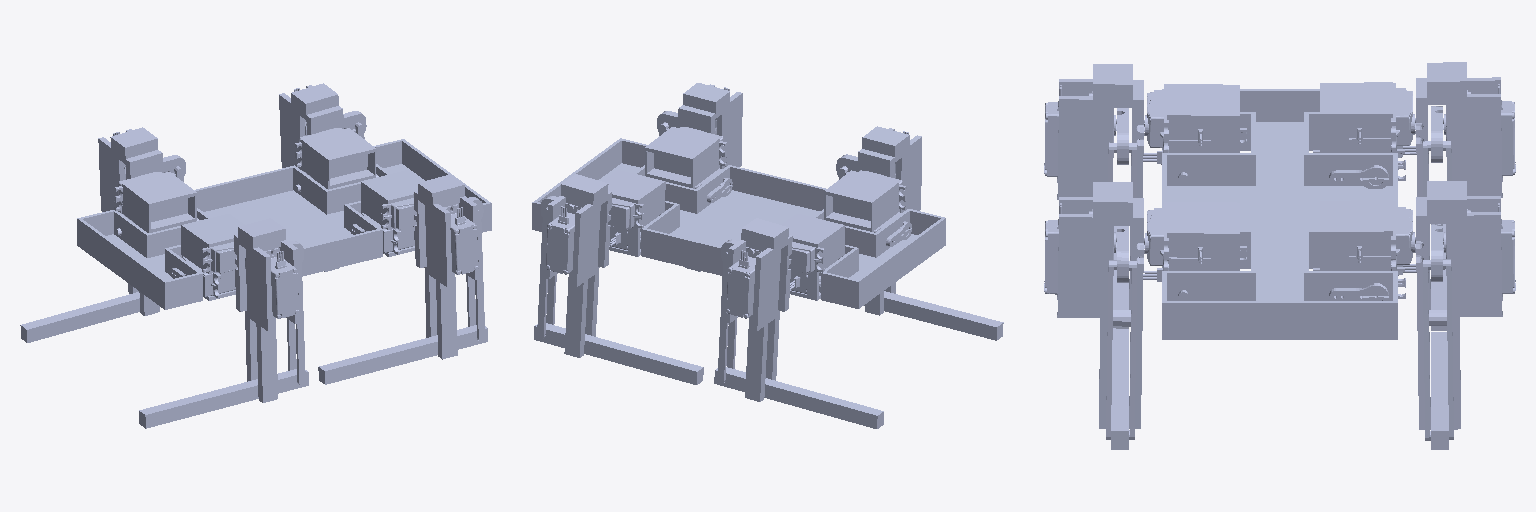
robot.urdf — qr_robot_description:
<?xml version="1.0" encoding="utf-8"?>
<!-- This URDF was automatically created by SolidWorks to URDF Exporter! Originally created by Stephen Brawner (brawner@gmail.com) 
     Commit Version: 1.6.0-4-g7f85cfe  Build Version: 1.6.7995.38578
     For more information, please see http://wiki.ros.org/sw_urdf_exporter -->
<robot
  name="qr_robot_description">
  <link
    name="base_link">
    <inertial>
      <origin
        xyz="0.15064253434013 0.0700000000000003 0.00666886897024865"
        rpy="0 0 0" />
      <mass
        value="0.198371061990118" />
      <inertia
        ixx="0.00036504091117598"
        ixy="5.19520227443928E-19"
        ixz="1.94981330804241E-06"
        iyy="0.00175563313208596"
        iyz="4.82096077171752E-21"
        izz="0.00210157240958524" />
    </inertial>
    <visual>
      <origin
        xyz="0 0 0"
        rpy="0 0 0" />
      <geometry>
        <mesh
          filename="package://qr_robot_description/meshes/base_link.STL" />
      </geometry>
      <material
        name="">
        <color
          rgba="0.792156862745098 0.819607843137255 0.933333333333333 1" />
      </material>
    </visual>
    <collision>
      <origin
        xyz="0 0 0"
        rpy="0 0 0" />
      <geometry>
        <mesh
          filename="package://qr_robot_description/meshes/base_link.STL" />
      </geometry>
    </collision>
  </link>
  <link
    name="FrontLeftLink1">
    <inertial>
      <origin
        xyz="0.0320386942573502 0.00671480018784498 0.0109429905159666"
        rpy="0 0 0" />
      <mass
        value="0.095813289188243" />
      <inertia
        ixx="2.42425602673094E-05"
        ixy="4.73666922265954E-07"
        ixz="9.00567316023783E-07"
        iyy="2.49753923477407E-05"
        iyz="5.54686215981736E-08"
        izz="2.86315080044085E-05" />
    </inertial>
    <visual>
      <origin
        xyz="0 0 0"
        rpy="0 0 0" />
      <geometry>
        <mesh
          filename="package://qr_robot_description/meshes/FrontLeftLink1.STL" />
      </geometry>
      <material
        name="">
        <color
          rgba="0.792156862745098 0.819607843137255 0.933333333333333 1" />
      </material>
    </visual>
    <collision>
      <origin
        xyz="0 0 0"
        rpy="0 0 0" />
      <geometry>
        <mesh
          filename="package://qr_robot_description/meshes/FrontLeftLink1.STL" />
      </geometry>
    </collision>
  </link>
  <joint
    name="FrontLeftJoint1"
    type="revolute">
    <origin
      xyz="0.0293 0.0131592409951216 0.0106456547118375"
      rpy="0 0 0" />
    <parent
      link="base_link" />
    <child
      link="FrontLeftLink1" />
    <axis
      xyz="-1 0 0" />
    <limit
      lower="-0.785"
      upper="0.785"
      effort="10"
      velocity="5" />
  </joint>
  <link
    name="FrontLeftLink2">
    <inertial>
      <origin
        xyz="0.00250391100516545 -0.0198206905886673 -0.0182298717509004"
        rpy="0 0 0" />
      <mass
        value="0.105670923588723" />
      <inertia
        ixx="0.000126642636731097"
        ixy="-1.24273055426145E-07"
        ixz="2.35620380502297E-06"
        iyy="0.00011886602057806"
        iyz="6.7582342278957E-06"
        izz="2.24264702225938E-05" />
    </inertial>
    <visual>
      <origin
        xyz="0 0 0"
        rpy="0 0 0" />
      <geometry>
        <mesh
          filename="package://qr_robot_description/meshes/FrontLeftLink2.STL" />
      </geometry>
      <material
        name="">
        <color
          rgba="0.792156862745098 0.819607843137255 0.933333333333333 1" />
      </material>
    </visual>
    <collision>
      <origin
        xyz="0 0 0"
        rpy="0 0 0" />
      <geometry>
        <mesh
          filename="package://qr_robot_description/meshes/FrontLeftLink2.STL" />
      </geometry>
    </collision>
  </link>
  <joint
    name="FrontLeftJoint2"
    type="revolute">
    <origin
      xyz="0.0436000007976901 -0.0287689722180402 0.0234127349505281"
      rpy="0 0 0" />
    <parent
      link="FrontLeftLink1" />
    <child
      link="FrontLeftLink2" />
    <axis
      xyz="0 -0.999898265834073 0.0142638698119604" />
    <limit
      lower="-1.57"
      upper="1.57"
      effort="10"
      velocity="5" />
  </joint>
  <link
    name="FrontLeftLink3">
    <inertial>
      <origin
        xyz="-0.0374641213885109 -1.06053058834821E-05 -0.000743432680026412"
        rpy="0 0 0" />
      <mass
        value="0.0182031554795256" />
      <inertia
        ixx="4.05238235702726E-07"
        ixy="-9.37000337039693E-09"
        ixz="-6.56837887925087E-07"
        iyy="3.35632551810641E-05"
        iyz="-1.0091410536653E-09"
        izz="3.349252871874E-05" />
    </inertial>
    <visual>
      <origin
        xyz="0 0 0"
        rpy="0 0 0" />
      <geometry>
        <mesh
          filename="package://qr_robot_description/meshes/FrontLeftLink3.STL" />
      </geometry>
      <material
        name="">
        <color
          rgba="0.792156862745098 0.819607843137255 0.933333333333333 1" />
      </material>
    </visual>
    <collision>
      <origin
        xyz="0 0 0"
        rpy="0 0 0" />
      <geometry>
        <mesh
          filename="package://qr_robot_description/meshes/FrontLeftLink3.STL" />
      </geometry>
    </collision>
  </link>
  <joint
    name="FrontLeftJoint3"
    type="revolute">
    <origin
      xyz="0.00238198079490237 -0.00906789307442923 -0.10985603587794"
      rpy="0 0 0" />
    <parent
      link="FrontLeftLink2" />
    <child
      link="FrontLeftLink3" />
    <axis
      xyz="0 0.999898265834074 -0.0142638698119472" />
    <limit
      lower="-1.57"
      upper="1.57"
      effort="10"
      velocity="5" />
  </joint>
  <link
    name="BackLeftLink1">
    <inertial>
      <origin
        xyz="0.0320386930122367 0.00671480005431713 0.0109429902737703"
        rpy="0 0 0" />
      <mass
        value="0.095813282509179" />
      <inertia
        ixx="2.424255898585E-05"
        ixy="4.73668061830627E-07"
        ixz="9.00566360590198E-07"
        iyy="2.49753901033791E-05"
        iyz="5.54679987190611E-08"
        izz="2.8631505490848E-05" />
    </inertial>
    <visual>
      <origin
        xyz="0 0 0"
        rpy="0 0 0" />
      <geometry>
        <mesh
          filename="package://qr_robot_description/meshes/BackLeftLink1.STL" />
      </geometry>
      <material
        name="">
        <color
          rgba="0.792156862745098 0.819607843137255 0.933333333333333 1" />
      </material>
    </visual>
    <collision>
      <origin
        xyz="0 0 0"
        rpy="0 0 0" />
      <geometry>
        <mesh
          filename="package://qr_robot_description/meshes/BackLeftLink1.STL" />
      </geometry>
    </collision>
  </link>
  <joint
    name="BackLeftJoint1"
    type="revolute">
    <origin
      xyz="0.1943 0.0131592409951331 0.0106456547118291"
      rpy="0 0 0" />
    <parent
      link="base_link" />
    <child
      link="BackLeftLink1" />
    <axis
      xyz="-1 0 0" />
    <limit
      lower="-0.785"
      upper="0.785"
      effort="10"
      velocity="5" />
  </joint>
  <link
    name="BackLeftLink2">
    <inertial>
      <origin
        xyz="0.00231984764769877 -0.0186995825345528 -0.0097469970549835"
        rpy="0 0 0" />
      <mass
        value="0.105670923574705" />
      <inertia
        ixx="0.000126642636728268"
        ixy="-1.24273056271821E-07"
        ixz="2.35620380423781E-06"
        iyy="0.000118866020576161"
        iyz="6.75823422930414E-06"
        izz="2.2426470220495E-05" />
    </inertial>
    <visual>
      <origin
        xyz="0 0 0"
        rpy="0 0 0" />
      <geometry>
        <mesh
          filename="package://qr_robot_description/meshes/BackLeftLink2.STL" />
      </geometry>
      <material
        name="">
        <color
          rgba="0.792156862745098 0.819607843137255 0.933333333333333 1" />
      </material>
    </visual>
    <collision>
      <origin
        xyz="0 0 0"
        rpy="0 0 0" />
      <geometry>
        <mesh
          filename="package://qr_robot_description/meshes/BackLeftLink2.STL" />
      </geometry>
    </collision>
  </link>
  <joint
    name="BackLeftJoint2"
    type="revolute">
    <origin
      xyz="0.0437840641547808 -0.0298900802718516 0.0149298602539664"
      rpy="0 0 0" />
    <parent
      link="BackLeftLink1" />
    <child
      link="BackLeftLink2" />
    <axis
      xyz="0 -0.999898265834074 0.0142638698119524" />
    <limit
      lower="-1.57"
      upper="1.57"
      effort="10"
      velocity="5" />
  </joint>
  <link
    name="BackLeftLink3">
    <inertial>
      <origin
        xyz="-0.0374641213885109 -1.06053058839262E-05 -0.00074343268002619"
        rpy="0 0 0" />
      <mass
        value="0.0182031554795257" />
      <inertia
        ixx="4.05238235702727E-07"
        ixy="-9.37000337039493E-09"
        ixz="-6.56837887925088E-07"
        iyy="3.35632551810641E-05"
        iyz="-1.00914105366526E-09"
        izz="3.349252871874E-05" />
    </inertial>
    <visual>
      <origin
        xyz="0 0 0"
        rpy="0 0 0" />
      <geometry>
        <mesh
          filename="package://qr_robot_description/meshes/BackLeftLink3.STL" />
      </geometry>
      <material
        name="">
        <color
          rgba="0.792156862745098 0.819607843137255 0.933333333333333 1" />
      </material>
    </visual>
    <collision>
      <origin
        xyz="0 0 0"
        rpy="0 0 0" />
      <geometry>
        <mesh
          filename="package://qr_robot_description/meshes/BackLeftLink3.STL" />
      </geometry>
    </collision>
  </link>
  <joint
    name="BackLeftJoint3"
    type="revolute">
    <origin
      xyz="0.00219791743781195 -0.00794678502062873 -0.10137316118137"
      rpy="0 0 0" />
    <parent
      link="BackLeftLink2" />
    <child
      link="BackLeftLink3" />
    <axis
      xyz="0 0.999898265834074 -0.0142638698119472" />
    <limit
      lower="-1.57"
      upper="1.57"
      effort="10"
      velocity="5" />
  </joint>
  <link
    name="FrontRightLink1">
    <inertial>
      <origin
        xyz="-0.0323310935630463 -0.00671937509207754 0.0112637002553833"
        rpy="0 0 0" />
      <mass
        value="0.0958132833021362" />
      <inertia
        ixx="2.42425591949508E-05"
        ixy="5.957000753736E-07"
        ixz="-7.57923580736671E-07"
        iyy="2.49145672893248E-05"
        iyz="-5.64566885173689E-08"
        izz="2.85706263656161E-05" />
    </inertial>
    <visual>
      <origin
        xyz="0 0 0"
        rpy="0 0 0" />
      <geometry>
        <mesh
          filename="package://qr_robot_description/meshes/FrontRightLink1.STL" />
      </geometry>
      <material
        name="">
        <color
          rgba="0.792156862745098 0.819607843137255 0.933333333333333 1" />
      </material>
    </visual>
    <collision>
      <origin
        xyz="0 0 0"
        rpy="0 0 0" />
      <geometry>
        <mesh
          filename="package://qr_robot_description/meshes/FrontRightLink1.STL" />
      </geometry>
    </collision>
  </link>
  <joint
    name="FrontRightJoint1"
    type="revolute">
    <origin
      xyz="0.0956999999999999 0.126847890939777 0.0101457055789318"
      rpy="0 0 0" />
    <parent
      link="base_link" />
    <child
      link="FrontRightLink1" />
    <axis
      xyz="1 0 0" />
    <limit
      lower="-0.785"
      upper="0.785"
      effort="10"
      velocity="5" />
  </joint>
  <link
    name="FrontRightLink2">
    <inertial>
      <origin
        xyz="0.00329836555069063 0.0198198040307558 -0.0181677621787976"
        rpy="0 0 0" />
      <mass
        value="0.105670922221913" />
      <inertia
        ixx="0.000126469712245493"
        ixy="2.98024996222313E-07"
        ixz="4.85342263795623E-06"
        iyy="0.000118865857000462"
        iyz="-6.75375005925774E-06"
        izz="2.2599557051989E-05" />
    </inertial>
    <visual>
      <origin
        xyz="0 0 0"
        rpy="0 0 0" />
      <geometry>
        <mesh
          filename="package://qr_robot_description/meshes/FrontRightLink2.STL" />
      </geometry>
      <material
        name="">
        <color
          rgba="0.792156862745098 0.819607843137255 0.933333333333333 1" />
      </material>
    </visual>
    <collision>
      <origin
        xyz="0 0 0"
        rpy="0 0 0" />
      <geometry>
        <mesh
          filename="package://qr_robot_description/meshes/FrontRightLink2.STL" />
      </geometry>
    </collision>
  </link>
  <joint
    name="FrontRightJoint2"
    type="revolute">
    <origin
      xyz="-0.0250999979365873 0.0287618406715562 0.0239126892931877"
      rpy="0 0 0" />
    <parent
      link="FrontRightLink1" />
    <child
      link="FrontRightLink2" />
    <axis
      xyz="0 0.999898265834074 0.0142638698119114" />
    <limit
      lower="-1.57"
      upper="1.57"
      effort="10"
      velocity="5" />
  </joint>
  <link
    name="FrontRightLink3">
    <inertial>
      <origin
        xyz="-0.0374485542494689 1.87013458978758E-05 -0.001310965648053"
        rpy="0 0 0" />
      <mass
        value="0.0182031554795256" />
      <inertia
        ixx="4.3274028859394E-07"
        ixy="1.65161536539199E-08"
        ixz="-1.15778351979626E-06"
        iyy="3.35632495855518E-05"
        iyz="1.40138684681007E-09"
        izz="3.34650322613608E-05" />
    </inertial>
    <visual>
      <origin
        xyz="0 0 0"
        rpy="0 0 0" />
      <geometry>
        <mesh
          filename="package://qr_robot_description/meshes/FrontRightLink3.STL" />
      </geometry>
      <material
        name="">
        <color
          rgba="0.792156862745098 0.819607843137255 0.933333333333333 1" />
      </material>
    </visual>
    <collision>
      <origin
        xyz="0 0 0"
        rpy="0 0 0" />
      <geometry>
        <mesh
          filename="package://qr_robot_description/meshes/FrontRightLink3.STL" />
      </geometry>
    </collision>
  </link>
  <joint
    name="FrontRightJoint3"
    type="revolute">
    <origin
      xyz="0.00520261170808645 0.00906650469202241 -0.109758742612488"
      rpy="0 0 0" />
    <parent
      link="FrontRightLink2" />
    <child
      link="FrontRightLink3" />
    <axis
      xyz="0 -0.999898265834074 -0.0142638698119283" />
    <limit
      lower="-1.57"
      upper="1.57"
      effort="10"
      velocity="5" />
  </joint>
  <link
    name="BackRightLink1">
    <inertial>
      <origin
        xyz="-0.0319884074732348 -0.00671937509456044 0.0112637002557312"
        rpy="0 0 0" />
      <mass
        value="0.095813283346156" />
      <inertia
        ixx="2.42425592065133E-05"
        ixy="5.95700065646554E-07"
        ixz="-7.57923579339438E-07"
        iyy="2.49145673011966E-05"
        iyz="-5.64566872585849E-08"
        izz="2.85706263851091E-05" />
    </inertial>
    <visual>
      <origin
        xyz="0 0 0"
        rpy="0 0 0" />
      <geometry>
        <mesh
          filename="package://qr_robot_description/meshes/BackRightLink1.STL" />
      </geometry>
      <material
        name="">
        <color
          rgba="0.792156862745098 0.819607843137255 0.933333333333333 1" />
      </material>
    </visual>
    <collision>
      <origin
        xyz="0 0 0"
        rpy="0 0 0" />
      <geometry>
        <mesh
          filename="package://qr_robot_description/meshes/BackRightLink1.STL" />
      </geometry>
    </collision>
  </link>
  <joint
    name="BackRightJoint1"
    type="revolute">
    <origin
      xyz="0.2607 0.126847890939778 0.0101457055789318"
      rpy="0 0 0" />
    <parent
      link="base_link" />
    <child
      link="BackRightLink1" />
    <axis
      xyz="1 0 0" />
    <limit
      lower="-0.785"
      upper="0.785"
      effort="10"
      velocity="5" />
  </joint>
  <link
    name="BackRightLink2">
    <inertial>
      <origin
        xyz="0.00329836555069096 0.0198198040307562 -0.018167762178798"
        rpy="0 0 0" />
      <mass
        value="0.105670922221913" />
      <inertia
        ixx="0.000126469712245493"
        ixy="2.98024996222296E-07"
        ixz="4.85342263795622E-06"
        iyy="0.000118865857000461"
        iyz="-6.75375005925775E-06"
        izz="2.2599557051989E-05" />
    </inertial>
    <visual>
      <origin
        xyz="0 0 0"
        rpy="0 0 0" />
      <geometry>
        <mesh
          filename="package://qr_robot_description/meshes/BackRightLink2.STL" />
      </geometry>
      <material
        name="">
        <color
          rgba="0.792156862745098 0.819607843137255 0.933333333333333 1" />
      </material>
    </visual>
    <collision>
      <origin
        xyz="0 0 0"
        rpy="0 0 0" />
      <geometry>
        <mesh
          filename="package://qr_robot_description/meshes/BackRightLink2.STL" />
      </geometry>
    </collision>
  </link>
  <joint
    name="BackRightJoint2"
    type="revolute">
    <origin
      xyz="-0.0240999979365872 0.0287618406715551 0.0239126892931874"
      rpy="0 0 0" />
    <parent
      link="BackRightLink1" />
    <child
      link="BackRightLink2" />
    <axis
      xyz="0 0.999898265834074 0.0142638698119114" />
    <limit
      lower="-1.57"
      upper="1.57"
      effort="10"
      velocity="5" />
  </joint>
  <link
    name="BackRightLink3">
    <inertial>
      <origin
        xyz="-0.0374485542494688 1.87013458978758E-05 -0.00131096564805289"
        rpy="0 0 0" />
      <mass
        value="0.0182031554795256" />
      <inertia
        ixx="4.3274028859394E-07"
        ixy="1.65161536539199E-08"
        ixz="-1.15778351979625E-06"
        iyy="3.35632495855518E-05"
        iyz="1.40138684681007E-09"
        izz="3.34650322613608E-05" />
    </inertial>
    <visual>
      <origin
        xyz="0 0 0"
        rpy="0 0 0" />
      <geometry>
        <mesh
          filename="package://qr_robot_description/meshes/BackRightLink3.STL" />
      </geometry>
      <material
        name="">
        <color
          rgba="0.792156862745098 0.819607843137255 0.933333333333333 1" />
      </material>
    </visual>
    <collision>
      <origin
        xyz="0 0 0"
        rpy="0 0 0" />
      <geometry>
        <mesh
          filename="package://qr_robot_description/meshes/BackRightLink3.STL" />
      </geometry>
    </collision>
  </link>
  <joint
    name="BackRightJoint3"
    type="revolute">
    <origin
      xyz="0.00520261170808656 0.00906650469202264 -0.109758742612488"
      rpy="0 0 0" />
    <parent
      link="BackRightLink2" />
    <child
      link="BackRightLink3" />
    <axis
      xyz="0 -0.999898265834074 -0.0142638698119283" />
    <limit
      lower="-1.57"
      upper="1.57"
      effort="10"
      velocity="5" />
  </joint>
</robot>

--- What the picture shows (computed from the rendered views, not written in the file) ---
3 views of the same robot in one strip: view 1: azimuth 30°, elevation 25°; view 2: azimuth 150°, elevation 25°; view 3: azimuth 270°, elevation 25° (orthographic).
Robot: qr_robot_description — 13 links, 12 joints (12 revolute); root link base_link; default pose: all joints at 0.
Links seen in each view (by area): view 1: base_link, FrontLeftLink2, BackLeftLink2, FrontRightLink2, FrontRightLink1, BackRightLink1, FrontLeftLink1, BackLeftLink1, BackRightLink2, BackLeftLink3, FrontLeftLink3, FrontRightLink3; view 2: base_link, BackRightLink2, FrontRightLink2, FrontLeftLink1, BackLeftLink1, FrontLeftLink2, BackLeftLink2, BackRightLink1, FrontRightLink1, FrontRightLink3, BackRightLink3, FrontLeftLink3; view 3: base_link, BackRightLink2, BackLeftLink2, FrontRightLink2, FrontLeftLink2, FrontRightLink1, BackRightLink1, BackLeftLink1, FrontLeftLink1, BackLeftLink3, BackRightLink3, FrontRightLink3 (+1 smaller).
Boxes of the visible links, <box> form: base_link: <box>77,139,491,309</box>; FrontLeftLink2: <box>234,218,305,402</box>; BackLeftLink2: <box>414,175,484,359</box>; FrontRightLink2: <box>98,127,185,315</box>; FrontRightLink1: <box>114,172,199,235</box>; BackRightLink1: <box>294,128,378,191</box>; FrontLeftLink1: <box>170,214,244,300</box>; BackLeftLink1: <box>350,170,423,256</box>; BackRightLink2: <box>279,83,366,271</box>; BackLeftLink3: <box>318,325,487,384</box>; FrontLeftLink3: <box>139,369,308,428</box>; FrontRightLink3: <box>20,292,139,342</box>; base_link: <box>532,138,945,308</box>; BackRightLink2: <box>537,174,611,357</box>; FrontRightLink2: <box>717,218,792,401</box>; FrontLeftLink1: <box>824,170,911,246</box>; BackLeftLink1: <box>645,127,732,202</box>; FrontLeftLink2: <box>836,126,921,315</box>; BackLeftLink2: <box>657,83,742,271</box>; BackRightLink1: <box>602,170,665,256</box>; FrontRightLink1: <box>781,214,844,300</box>; FrontRightLink3: <box>714,367,883,428</box>; BackRightLink3: <box>534,323,703,384</box>; FrontLeftLink3: <box>864,291,1003,340</box>; base_link: <box>1162,89,1397,339</box>; BackRightLink2: <box>1416,181,1515,440</box>; BackLeftLink2: <box>1044,182,1143,439</box>; FrontRightLink2: <box>1416,62,1515,309</box>; FrontLeftLink2: <box>1044,64,1143,309</box>; FrontRightLink1: <box>1313,82,1416,188</box>; BackRightLink1: <box>1313,200,1416,300</box>; BackLeftLink1: <box>1143,202,1246,300</box>; FrontLeftLink1: <box>1143,84,1246,183</box>; BackLeftLink3: <box>1111,328,1128,449</box>; BackRightLink3: <box>1431,332,1448,449</box>; FrontRightLink3: <box>1431,224,1446,330</box>.
Size in the robot's own frame: 0.3353 by 0.2788 by 0.1537 metres.
Meshes: 13 distinct files referenced, 13 mesh visuals loaded (13 binary STL).
